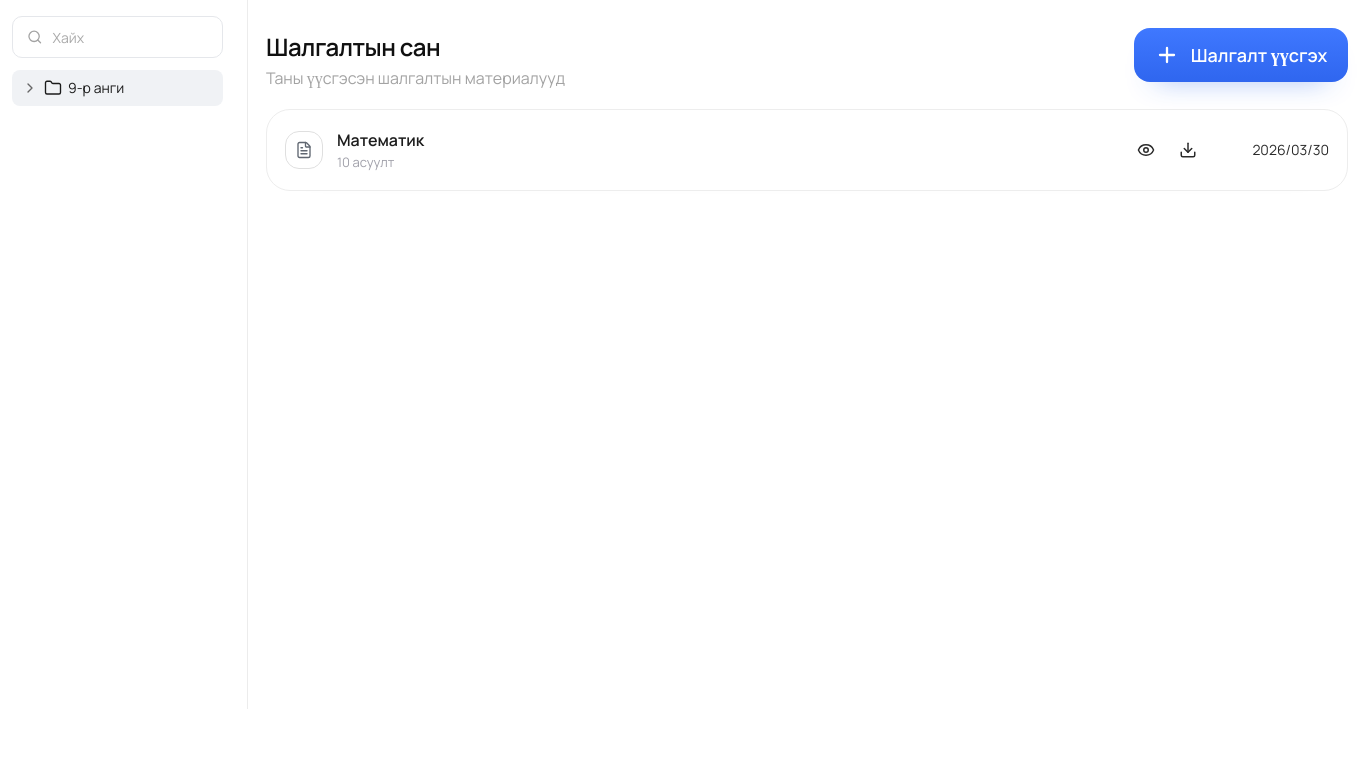
TeacherPageContent › opens an exam preview from the exam library instead of switching to results
The image size is (1366, 768).
Click the button named "Математик харах" at point(1146, 150), box left=1137, top=141, right=1155, bottom=159
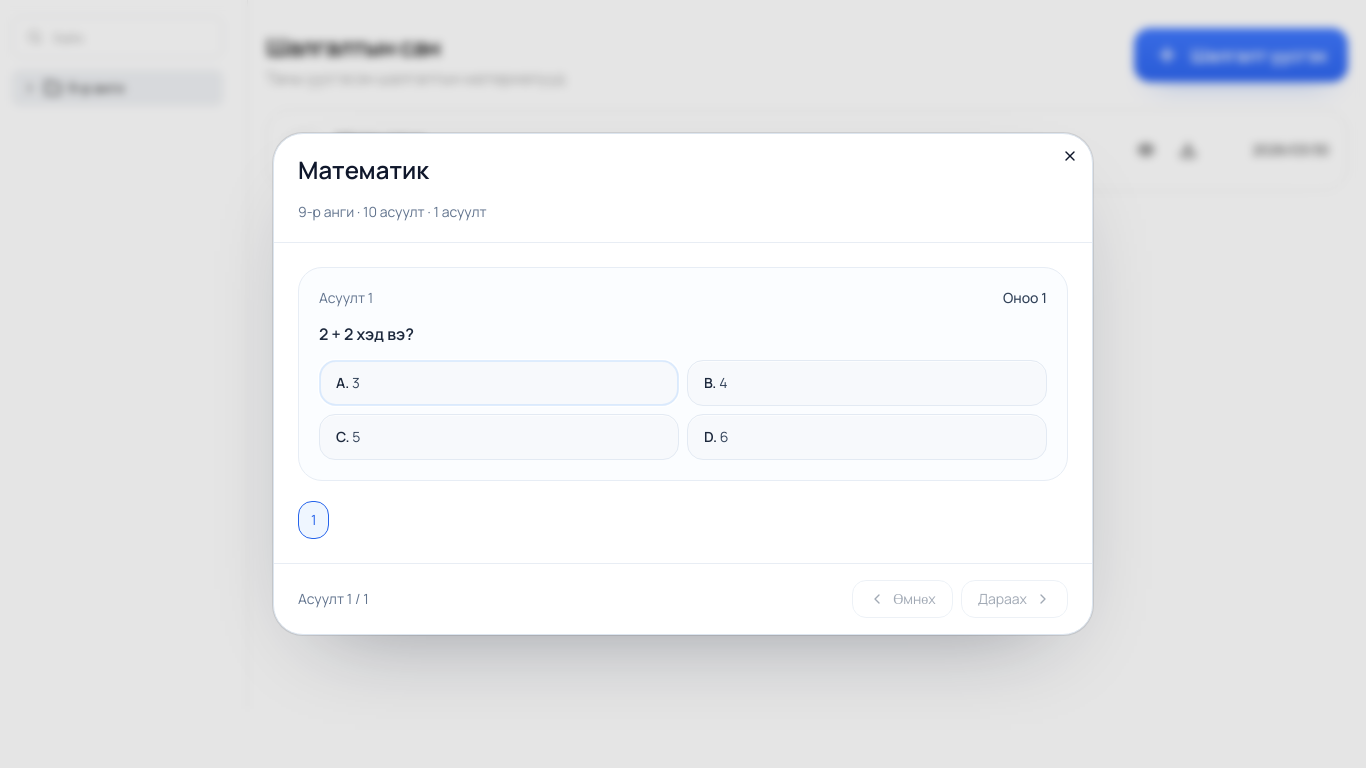
Now the text "2 + 2 хэд вэ?" is shown, box left=319, top=323, right=414, bottom=345
